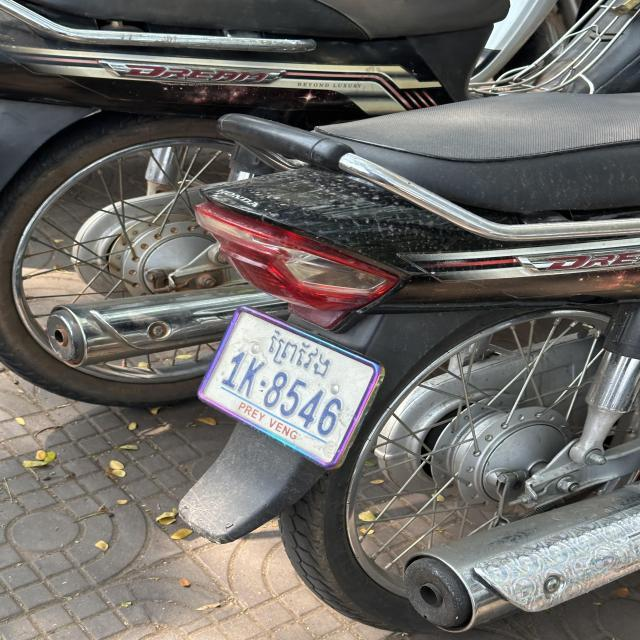Prey_Veng: (268, 329, 332, 381)
